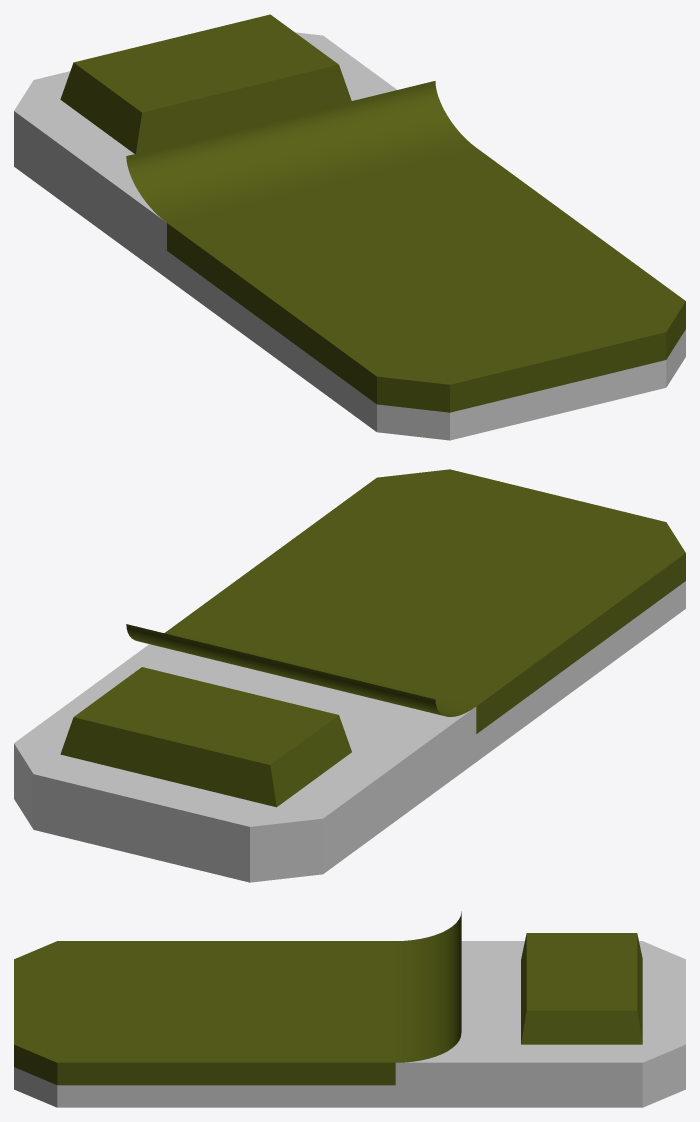
Rendered from bed.obj.
The picture shows the model from 3 angles, top to bottom: view 1: azimuth 30°, elevation 25°; view 2: azimuth 150°, elevation 25°; view 3: azimuth 270°, elevation 25°; orthographic projection. The views are drawn at different scales.
Parts seen in each view (by area): view 1: bed_floor; view 2: bed_floor; view 3: bed_floor.
Part boxes in pixels (x1=…): bed_floor: x1=14, y1=14, x2=685, y2=440; bed_floor: x1=14, y1=469, x2=685, y2=882; bed_floor: x1=14, y1=911, x2=685, y2=1107.
Size of the model in its own units: 0.3203 by 0.0921 by 0.7473.
